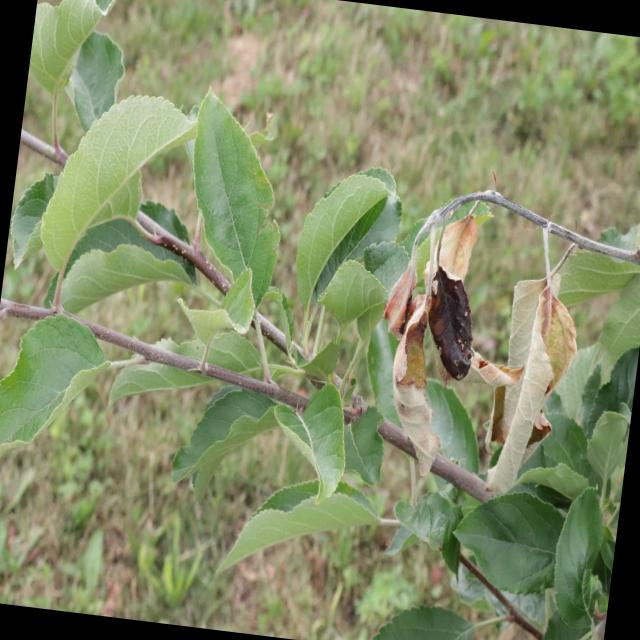-FireBlight-: (388, 202, 572, 499)
